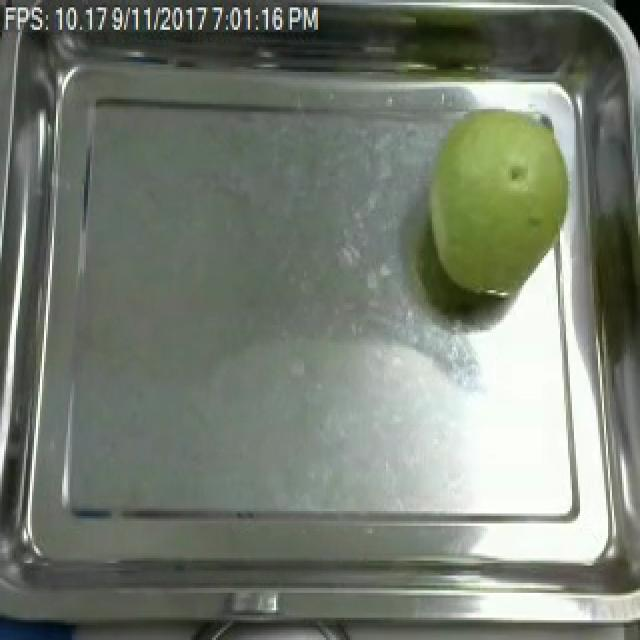Fruit: (414, 96, 594, 308)
